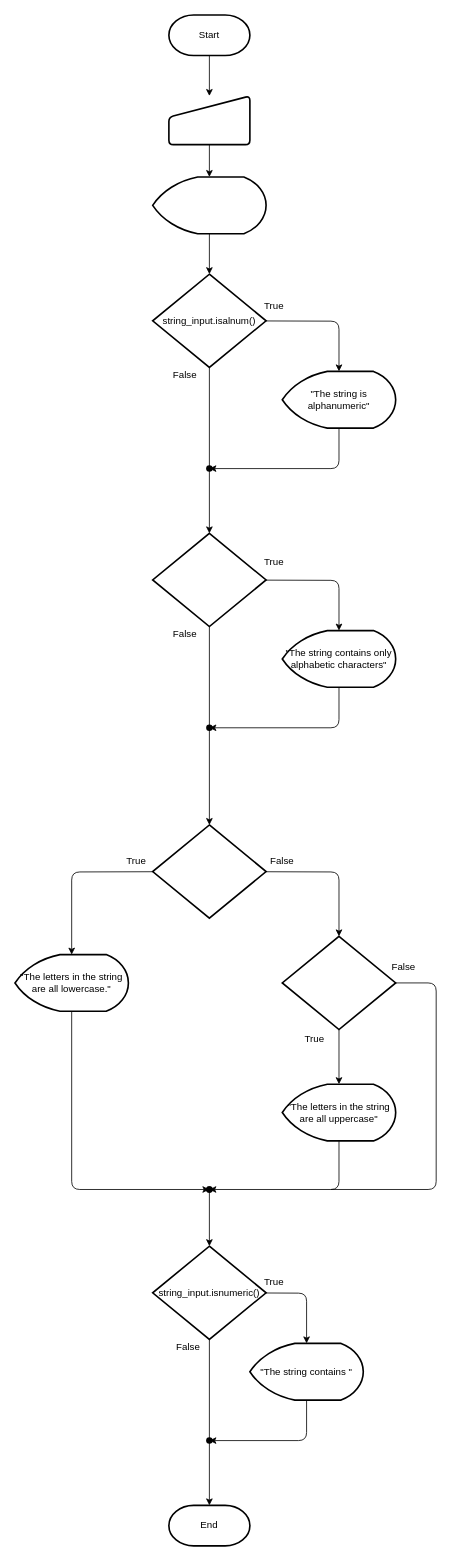
The diagram is 451 pixels wide and 1560 high, and some of its shapes have lost their labels. The centre of each missing label's shape, as x and y in pixels:
"This is what I found about that string:": [208,205]
string_input: [209,120]
string_input.isalpha(): [208,579]
string_input.islower(): [208,871]
string_input.isupper(): [338,982]
